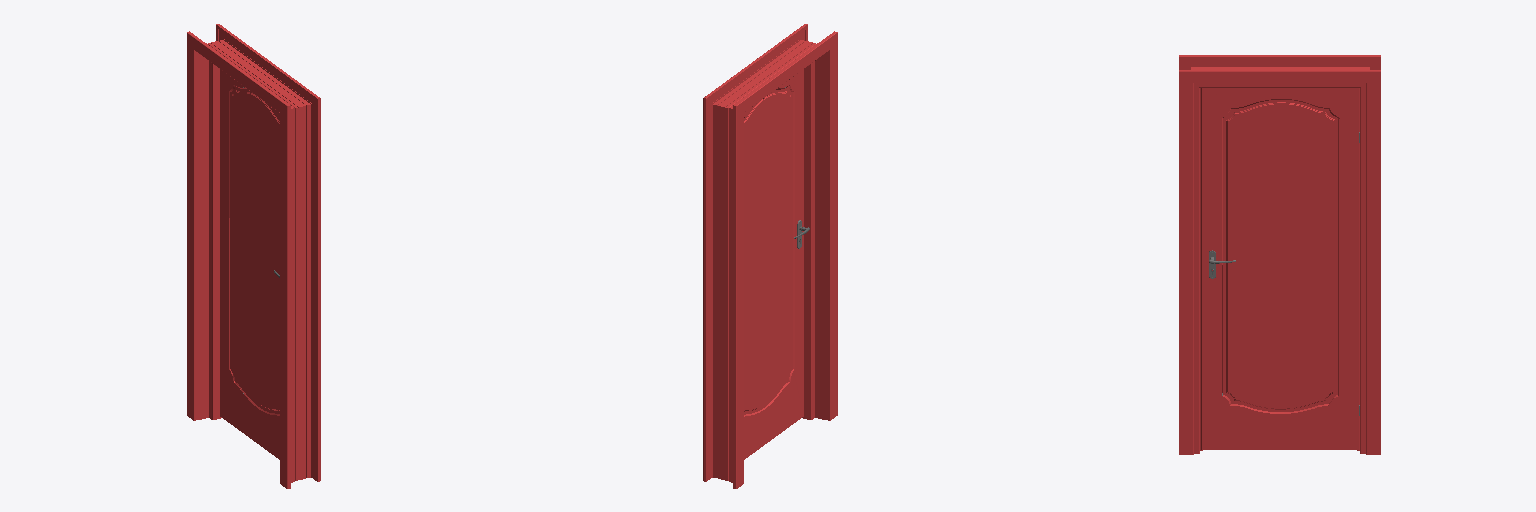
The model's file is door05.obj.
3 renders of one model, left to right at view 1: azimuth 30°, elevation 25°; view 2: azimuth 150°, elevation 25°; view 3: azimuth 270°, elevation 25°, orthographic.
Parts seen in each view (by area): view 1: Object.15, Object.13, Object.14, Object.3; view 2: Object.15, Object.13, Object.14, Object.5, Object.3; view 3: Object.9, Object.15, Object.14, Object.11, Object.6.
Boxes of the visible parts, x1,y1,x2,y2 form: Object.15: [187, 24, 320, 488]; Object.13: [232, 92, 279, 409]; Object.14: [220, 69, 279, 459]; Object.3: [230, 86, 279, 413]; Object.15: [703, 24, 837, 488]; Object.13: [744, 92, 791, 410]; Object.14: [744, 69, 803, 459]; Object.5: [744, 84, 794, 416]; Object.3: [744, 86, 792, 414]; Object.9: [1228, 104, 1333, 408]; Object.15: [1179, 55, 1380, 454]; Object.14: [1201, 88, 1358, 449]; Object.11: [1223, 100, 1337, 411]; Object.6: [1222, 99, 1339, 413].
Bounding box in the file's own units: 8.91 × 84.96 × 40.72.